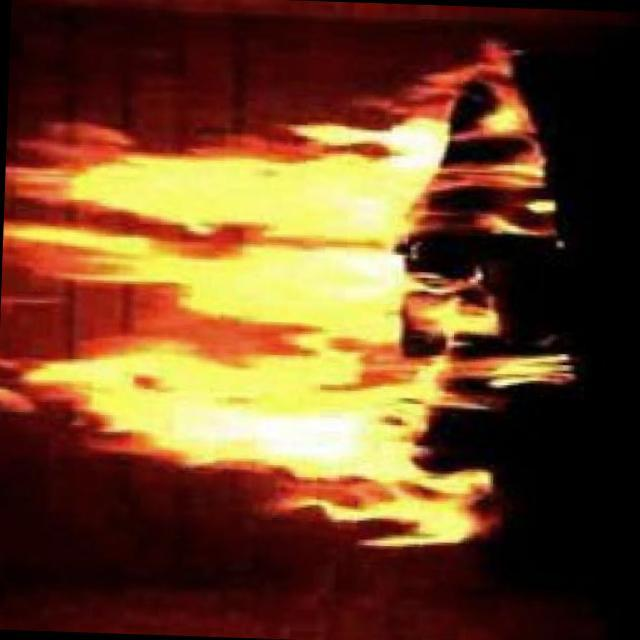Fire: (19, 90, 476, 543)
